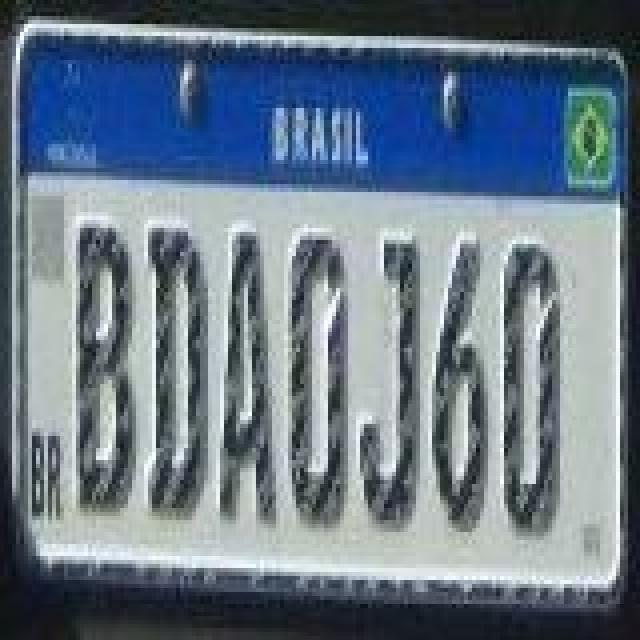6: (430, 230, 490, 538)
A: (216, 230, 280, 530)
B: (74, 218, 134, 518)
D: (144, 218, 208, 518), (496, 234, 560, 534), (290, 222, 350, 530)
J: (356, 230, 420, 530)
